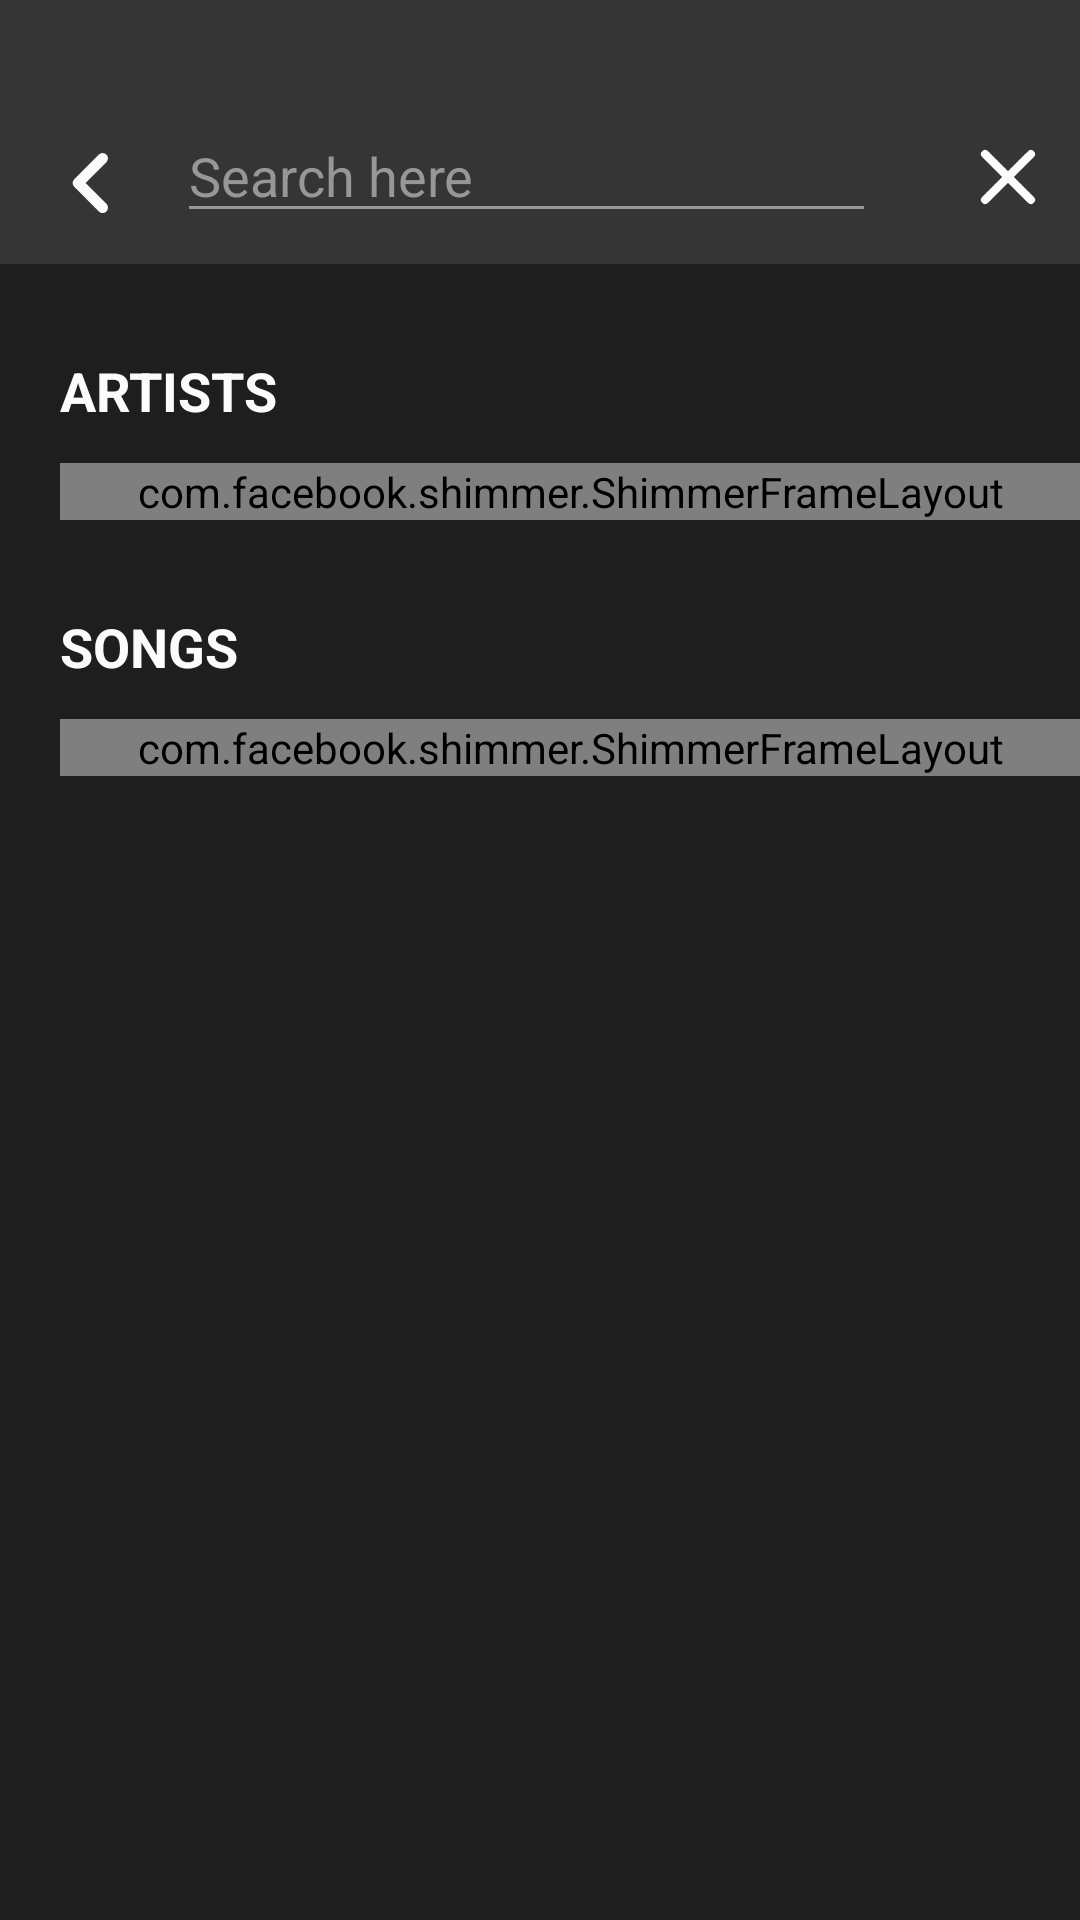

Icon bounding boxes for this 1080 × 1920 phone screenshot, format (x1, y1, x2, y2):
close: (980, 149, 1036, 205)
